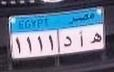1: (46, 33, 55, 53), (14, 35, 22, 55), (36, 35, 44, 54), (25, 36, 33, 53)
alif: (76, 29, 86, 49)
daal: (61, 34, 72, 50)
haa: (89, 30, 102, 46)
